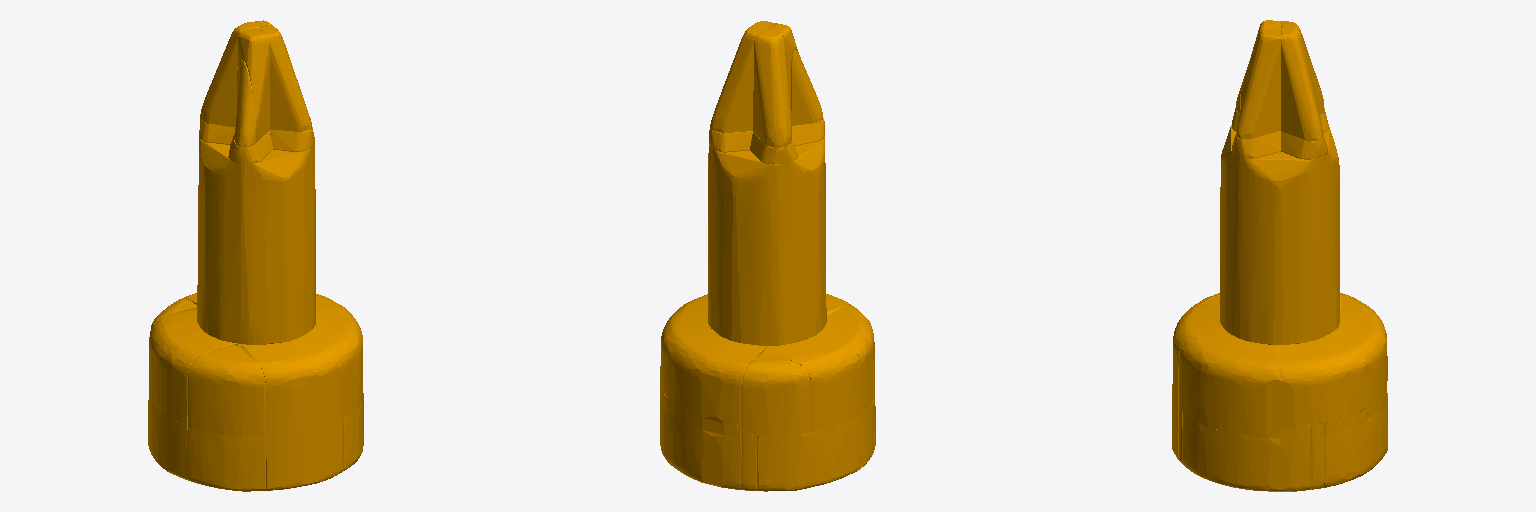
The robot description file, URDF, robot "072-d_toy_airplane":
<?xml version="1.0" encoding="UTF-8"?>
<robot name="072-d_toy_airplane">
	<link name="base">
		<collision>
			<geometry>
				<mesh filename="..\vhacd\072-d_toy_airplane_vhacd.obj" scale="1.0 1.0 1.0"/>
			</geometry>
			<origin xyz="0 0 0"/>
			<contact_coefficients mu="0.24" />
		</collision>
		<visual>
			<geometry>
				<mesh filename="..\vhacd\072-d_toy_airplane_vhacd.obj" scale="1.0 1.0 1.0"/>
			</geometry>
			<origin xyz="0 0 0"/>
		</visual>
		<inertial>
			<mass value="0"/>
			<inertia ixx="0.0" ixy="0.0" ixz="0.0" iyy="0.0" iyz="-0.0" izz="0.0" />
			<origin xyz="-0.02223323226825189 0.0014562790259919876 0.021303394474720298"/>
		</inertial>
	</link>
</robot>

--- Render facts (derived) ---
Views: 3 orthographic renders of the robot side by side, from view 1: azimuth 30°, elevation 25°; view 2: azimuth 150°, elevation 25°; view 3: azimuth 270°, elevation 25°.
Model 072-d_toy_airplane with 1 links and 0 joints (none), rooted at base, posed every joint at zero.
Visible links, largest first — view 1: base; view 2: base; view 3: base.
Boxes of the visible links, left/top/right/bottom form: base: left=148, top=20, right=363, bottom=491; base: left=660, top=21, right=875, bottom=491; base: left=1172, top=20, right=1387, bottom=491.
Size in the robot's own frame: 0.0308 by 0.0308 by 0.0665 metres.
Meshes: 1 distinct files referenced, 1 mesh visuals loaded (1 OBJ).